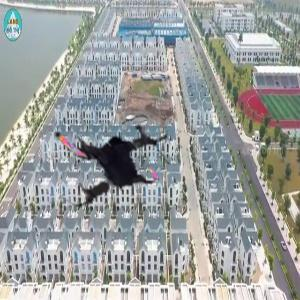drone: (39, 83, 177, 221)
